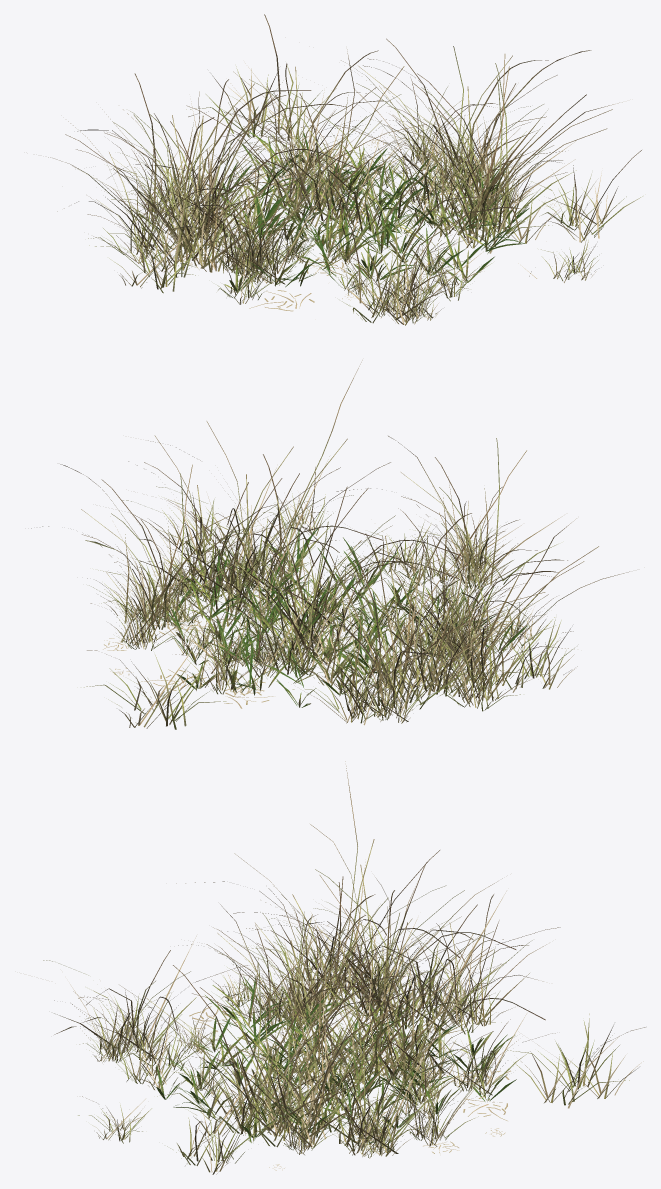
Rendered from wukong-grass-clumps.glb.
The picture shows the model from 3 angles, top to bottom: view 1: azimuth 30°, elevation 25°; view 2: azimuth 150°, elevation 25°; view 3: azimuth 270°, elevation 25°; orthographic projection. The views are drawn at different scales.
Parts seen in each view (by area): view 1: Grass_Tall, Grass_Lush, Grass_Short; view 2: Grass_Tall, Grass_Lush, Grass_Short; view 3: Grass_Tall, Grass_Short, Grass_Lush.
Part boxes in pixels (x1,y1,x2,y2): Grass_Tall: (48,14,642,325); Grass_Lush: (206,131,528,293); Grass_Short: (206,132,529,292); Grass_Tall: (31,360,629,729); Grass_Lush: (148,528,526,706); Grass_Short: (150,530,527,707); Grass_Tall: (43,761,645,1174); Grass_Short: (156,976,516,1144); Grass_Lush: (156,977,514,1143).
Size of the model in its own units: 1.57 by 0.4273 by 1.46.
4 materials, 4 textured.
